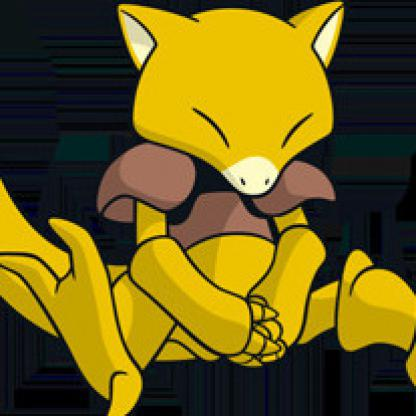Abra: (1, 1, 415, 415)
